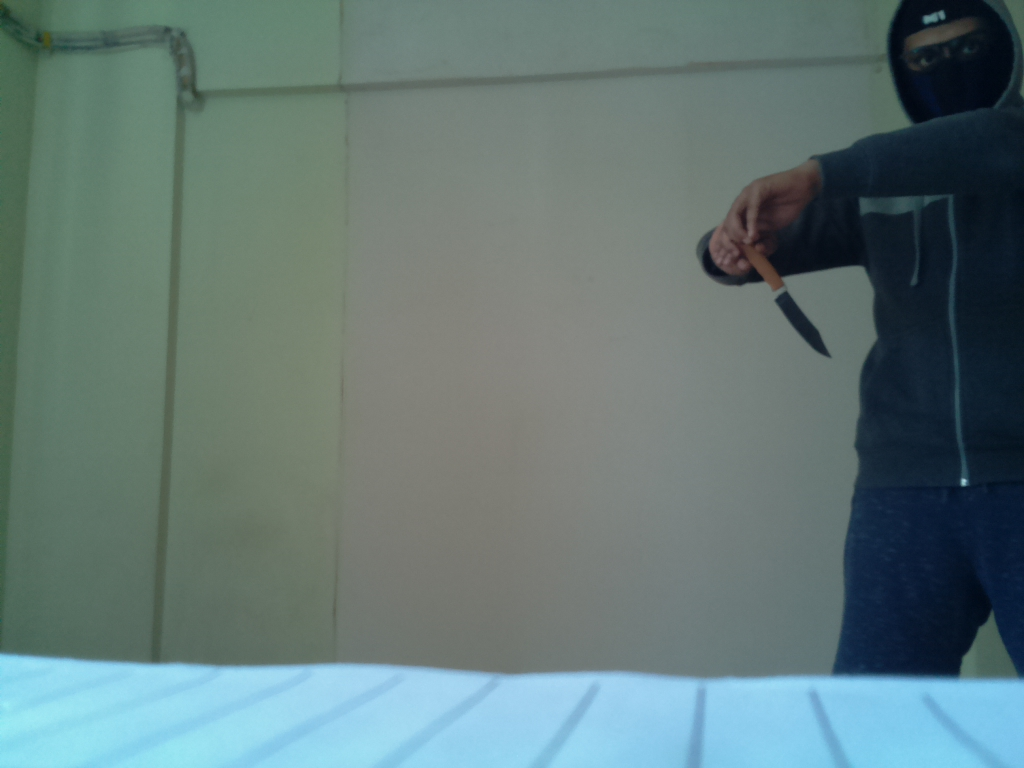knife: (732, 235, 836, 364)
